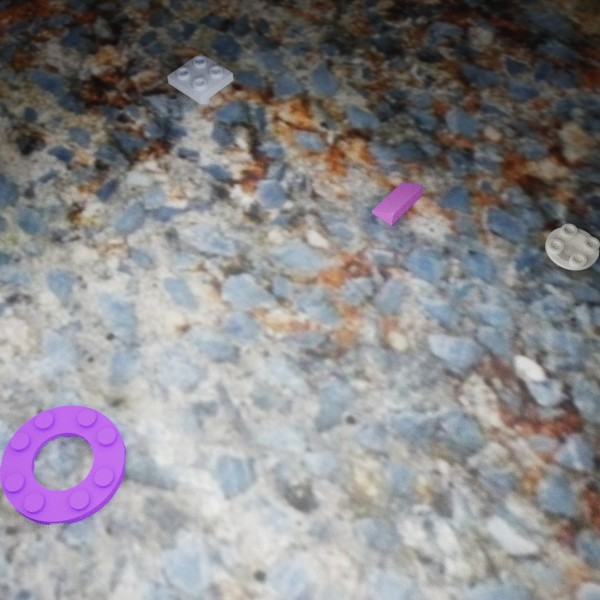lego: (0, 405, 126, 525), (167, 53, 233, 104), (545, 223, 599, 270), (371, 182, 423, 225)
